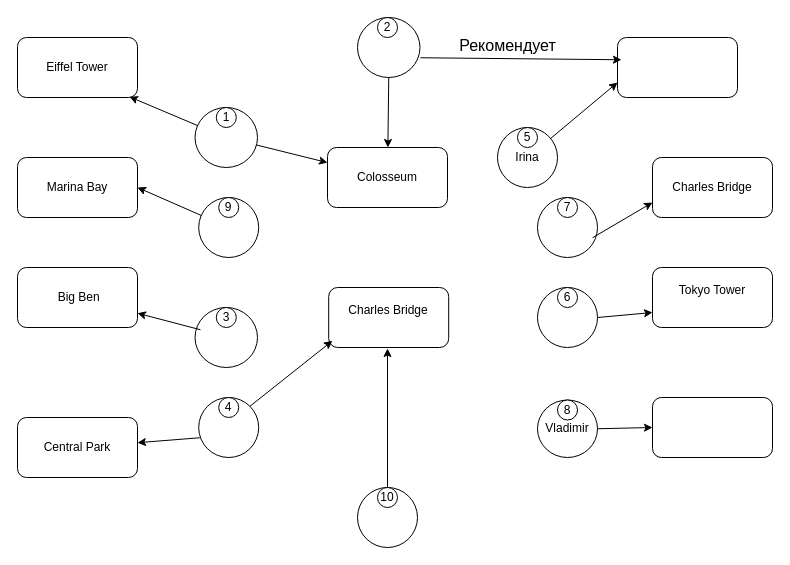
Image size: 790x565. Some labels were removed from this diagram. Each missing label, with the box of its shape:
Alexey: (194, 106, 258, 168)
Anna: (536, 196, 598, 258)
Blue Mosque: (652, 396, 772, 458)
Dmitry: (198, 396, 259, 458)
Elena: (356, 486, 418, 548)
Maria: (356, 16, 420, 78)
Nikolay: (536, 286, 598, 348)
Olga: (194, 306, 258, 368)
Sagrada Familia: (616, 36, 738, 98)
Tatyana: (198, 196, 259, 258)
